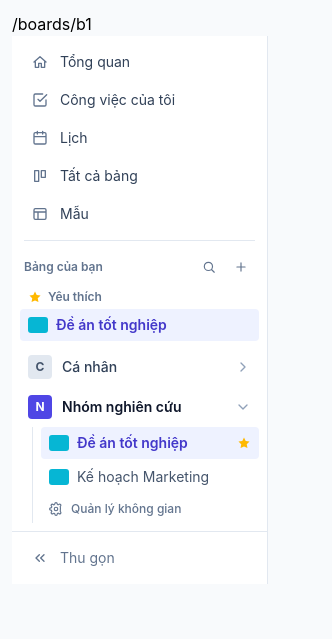
BoardSidebar › finds Vietnamese board names without accents and restores the list when cleared
Expected: the field labelled "Tìm bảng" is not shown
Click the button named "Tìm bảng".
click(209, 267)  # box [195,253,223,281]
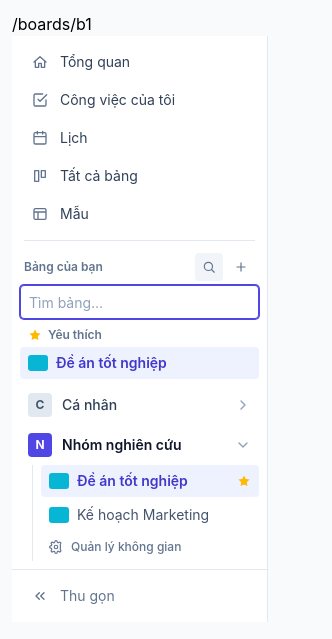
Type "viec nha" into the field labelled "Tìm bảng".
click(140, 302); type("viec nha")  # box [29,286,250,318]
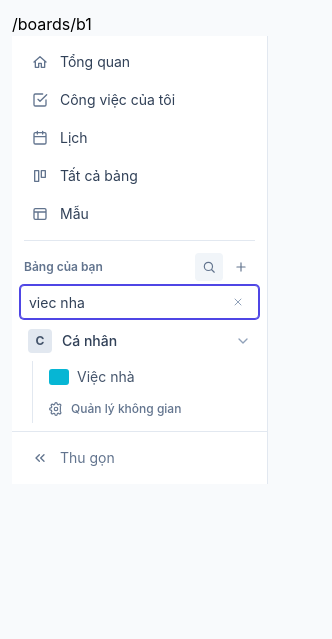
Expected: the link "Việc nhà" is shown, [49,368,135,385]
Expected: the link "Kế hoạch Marketing" is gone
Expected: the button "Nhóm nghiên cứu" is gone
Click the button named "Xóa tìm kiếm".
click(238, 302)  # box [226,290,250,314]
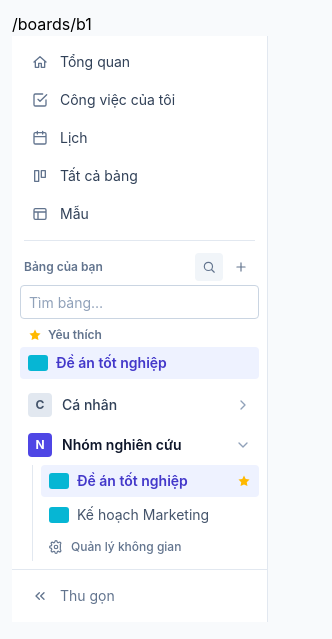
Expected: the link "Kế hoạch Marketing" is shown, [49,506,209,523]
